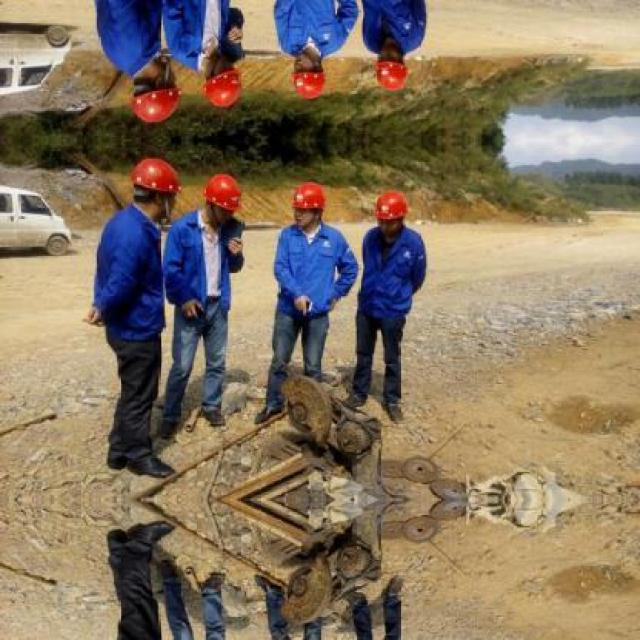helmet: (128, 157, 180, 218), (128, 62, 180, 123), (200, 56, 243, 110), (200, 170, 243, 223), (288, 180, 327, 228), (288, 52, 327, 100), (372, 185, 410, 233), (372, 47, 410, 95)
